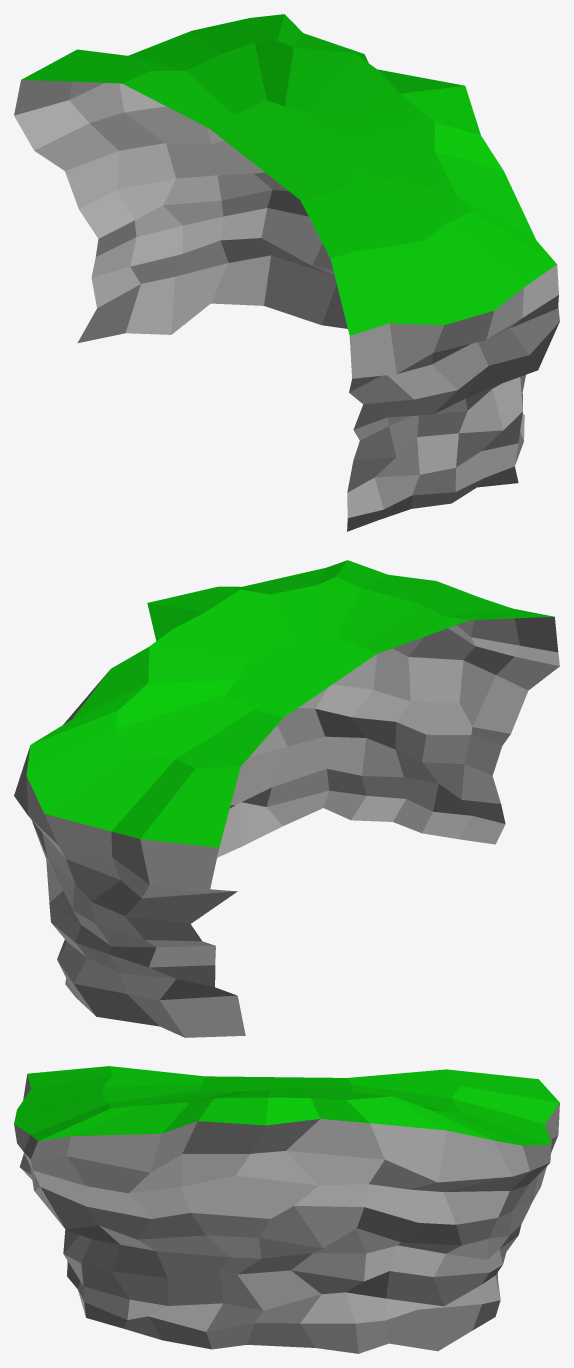
Rendered from huge_rock1.fbx.
3 renders of one model, top to bottom at view 1: azimuth 30°, elevation 25°; view 2: azimuth 150°, elevation 25°; view 3: azimuth 270°, elevation 25°, orthographic. The views are drawn at different scales.
Visible parts, largest first — view 1: Plane.005; view 2: Plane.005; view 3: Plane.005.
Boxes of the visible parts, <box> form: Plane.005: <box>14,14,559,531</box>; Plane.005: <box>14,560,559,1037</box>; Plane.005: <box>14,1066,559,1353</box>.
Size of the model in its own units: 1549 by 1643 by 3357.
